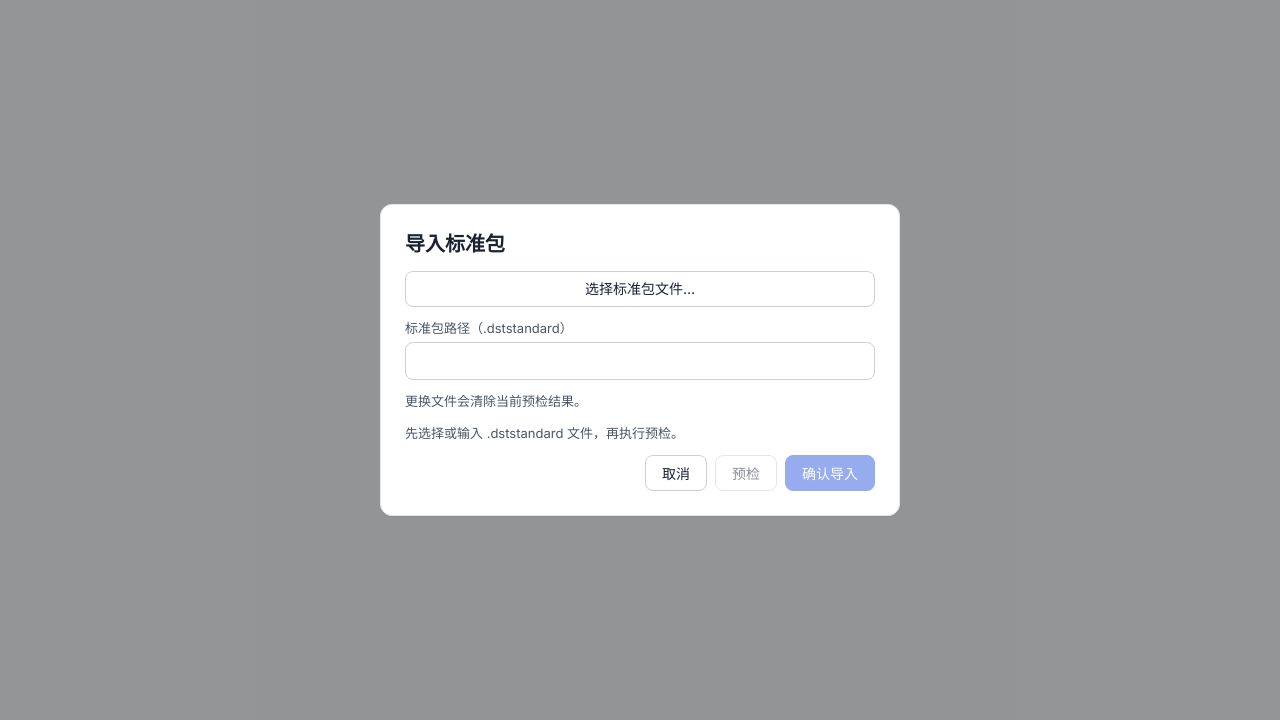
Test: StandardImportDialog › 确认导入成功进入成功态、发出 imported 且不清空弹窗
Click the button with test id "import-choose-file" at coordinates (640, 289), box x1=405 y1=271 x2=875 y2=307
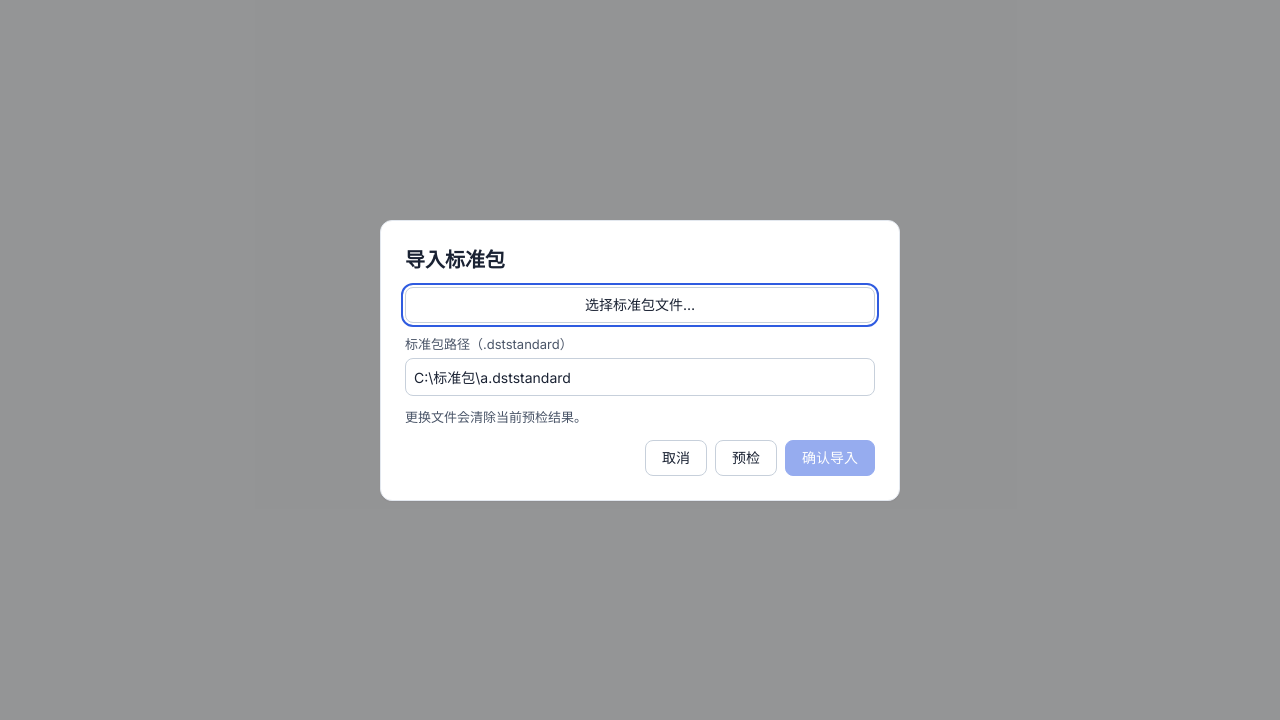
Click the button with test id "import-preview-button" at coordinates (746, 458), box x1=715 y1=440 x2=777 y2=476
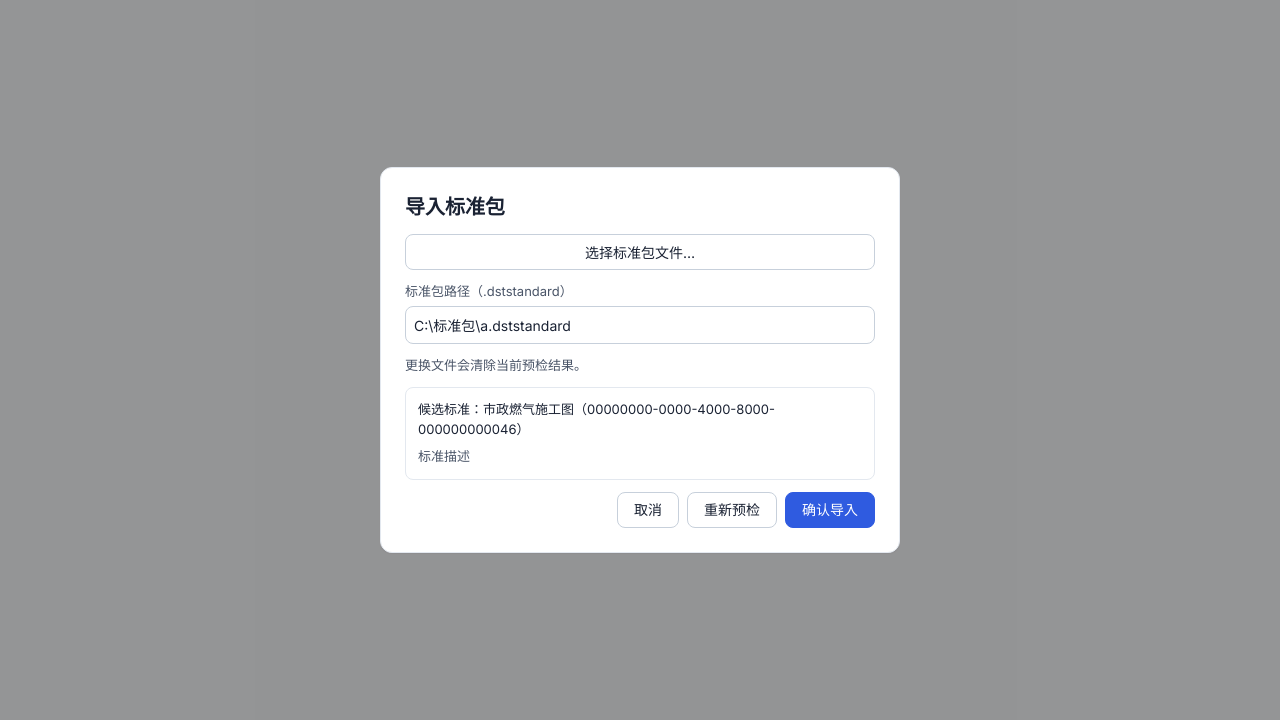
Click the button with test id "import-confirm-button" at coordinates (830, 510), box x1=785 y1=492 x2=875 y2=528
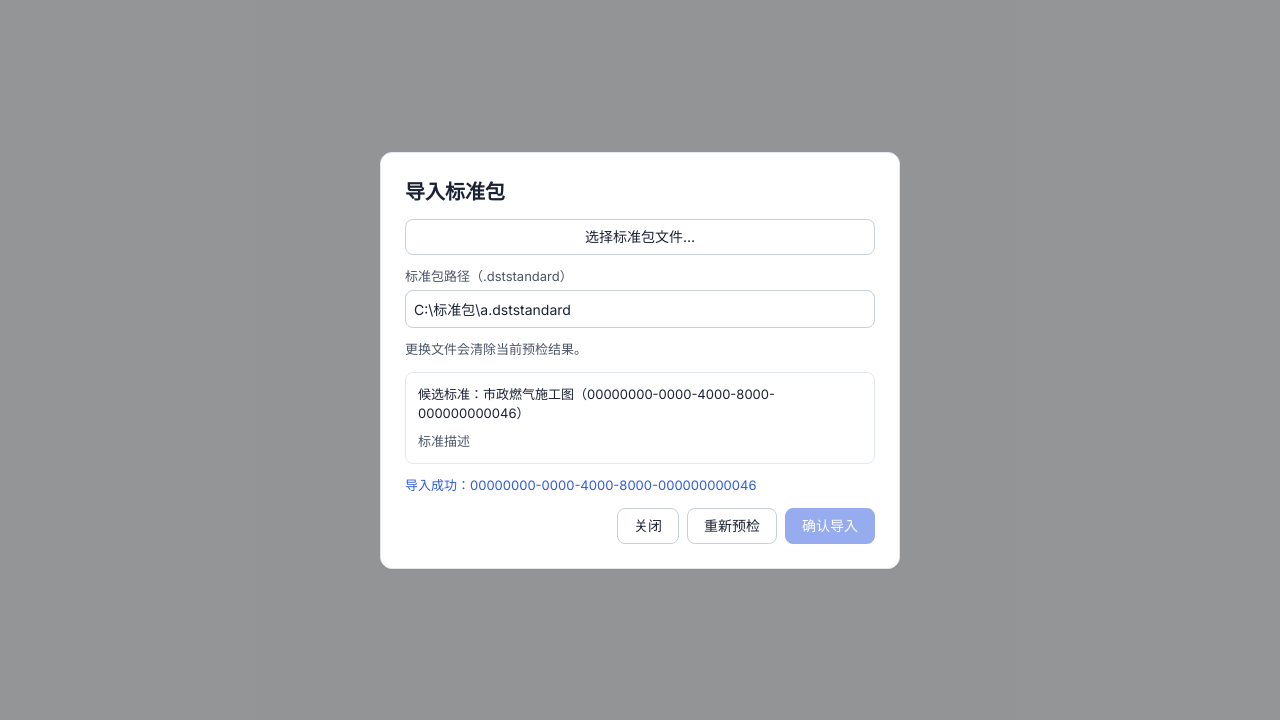
Result: the message "导入成功：00000000-0000-4000-8000-000000000046" is shown at x1=405 y1=477 x2=756 y2=493
